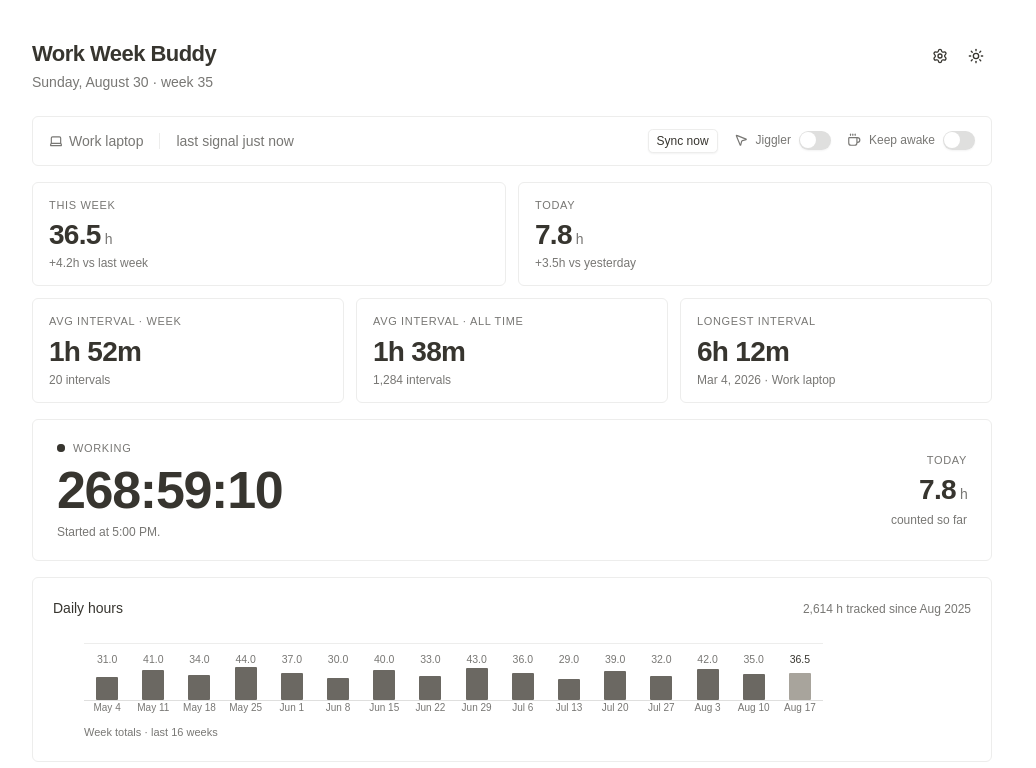
Scenario: the strip still fits › truncates the outcome instead of widening the row
Click the button "Sync now".
click(683, 140)  # box [648, 128, 718, 152]
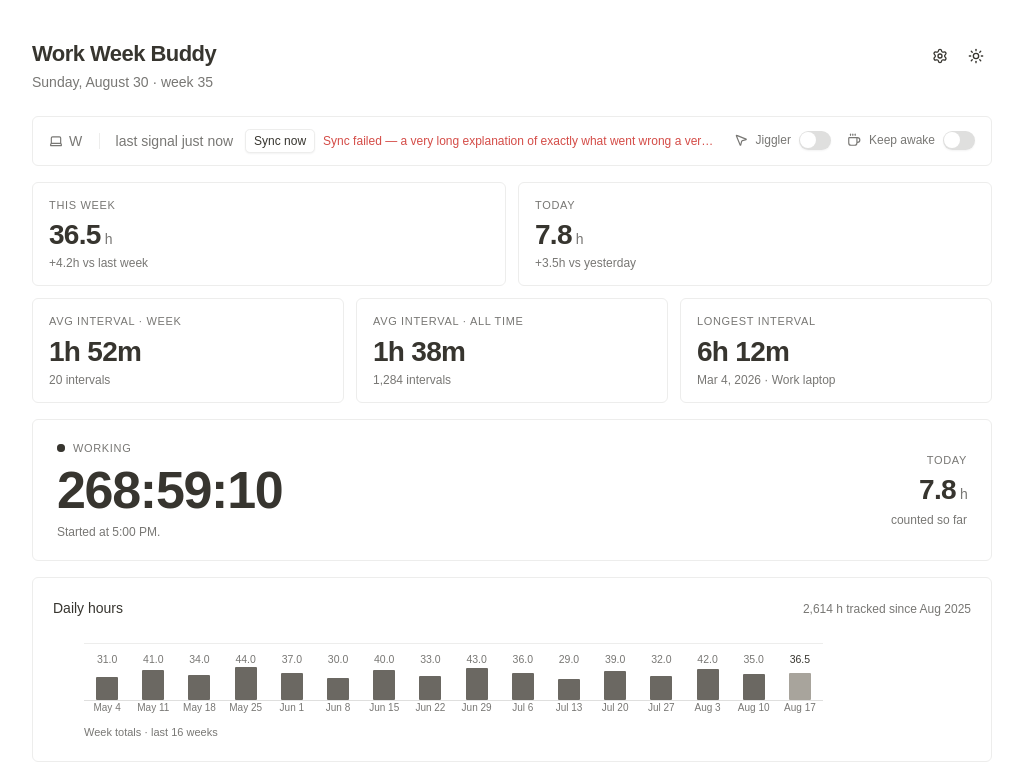
expect the message named "Sync failed — a very long explanation of exactly what went w" is shown: met, box [323, 132, 718, 148]
